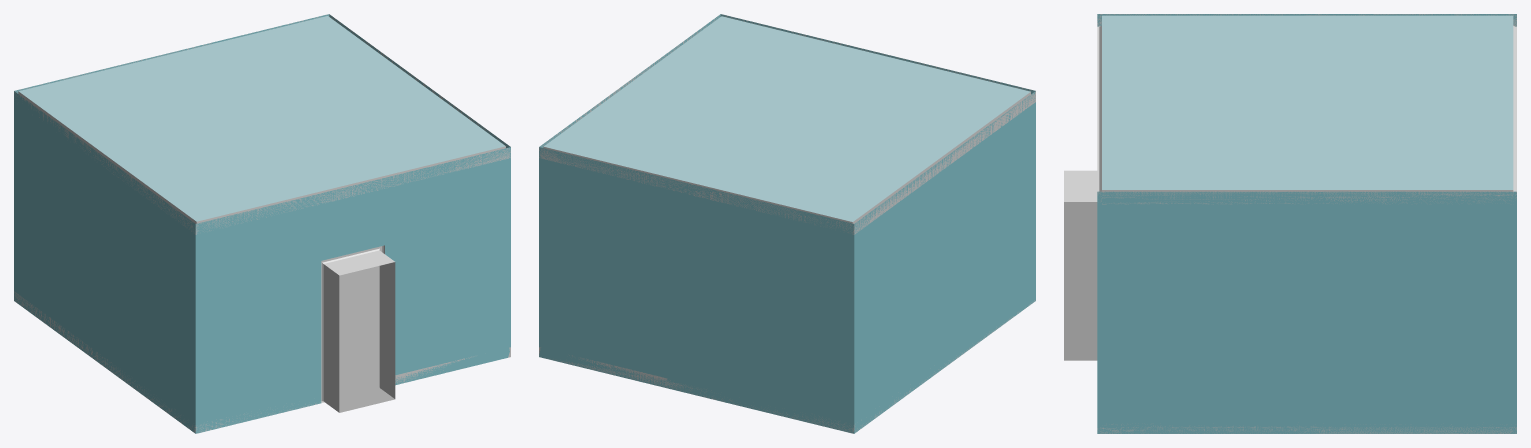
The model's file is Nursery_Revised.fbx.
The picture shows the model from 3 angles, left to right: view 1: azimuth 30°, elevation 25°; view 2: azimuth 150°, elevation 25°; view 3: azimuth 270°, elevation 25°; orthographic projection. The views are drawn at different scales.
Parts seen in each view (by area): view 1: Nursery_Room; view 2: Nursery_Room; view 3: Nursery_Room.
Part boxes in pixels (bbox=[...]): Nursery_Room: bbox=[14, 14, 510, 433]; Nursery_Room: bbox=[539, 14, 1035, 433]; Nursery_Room: bbox=[1064, 14, 1516, 433].
Size of the model in its own units: 482 by 307 by 519.
